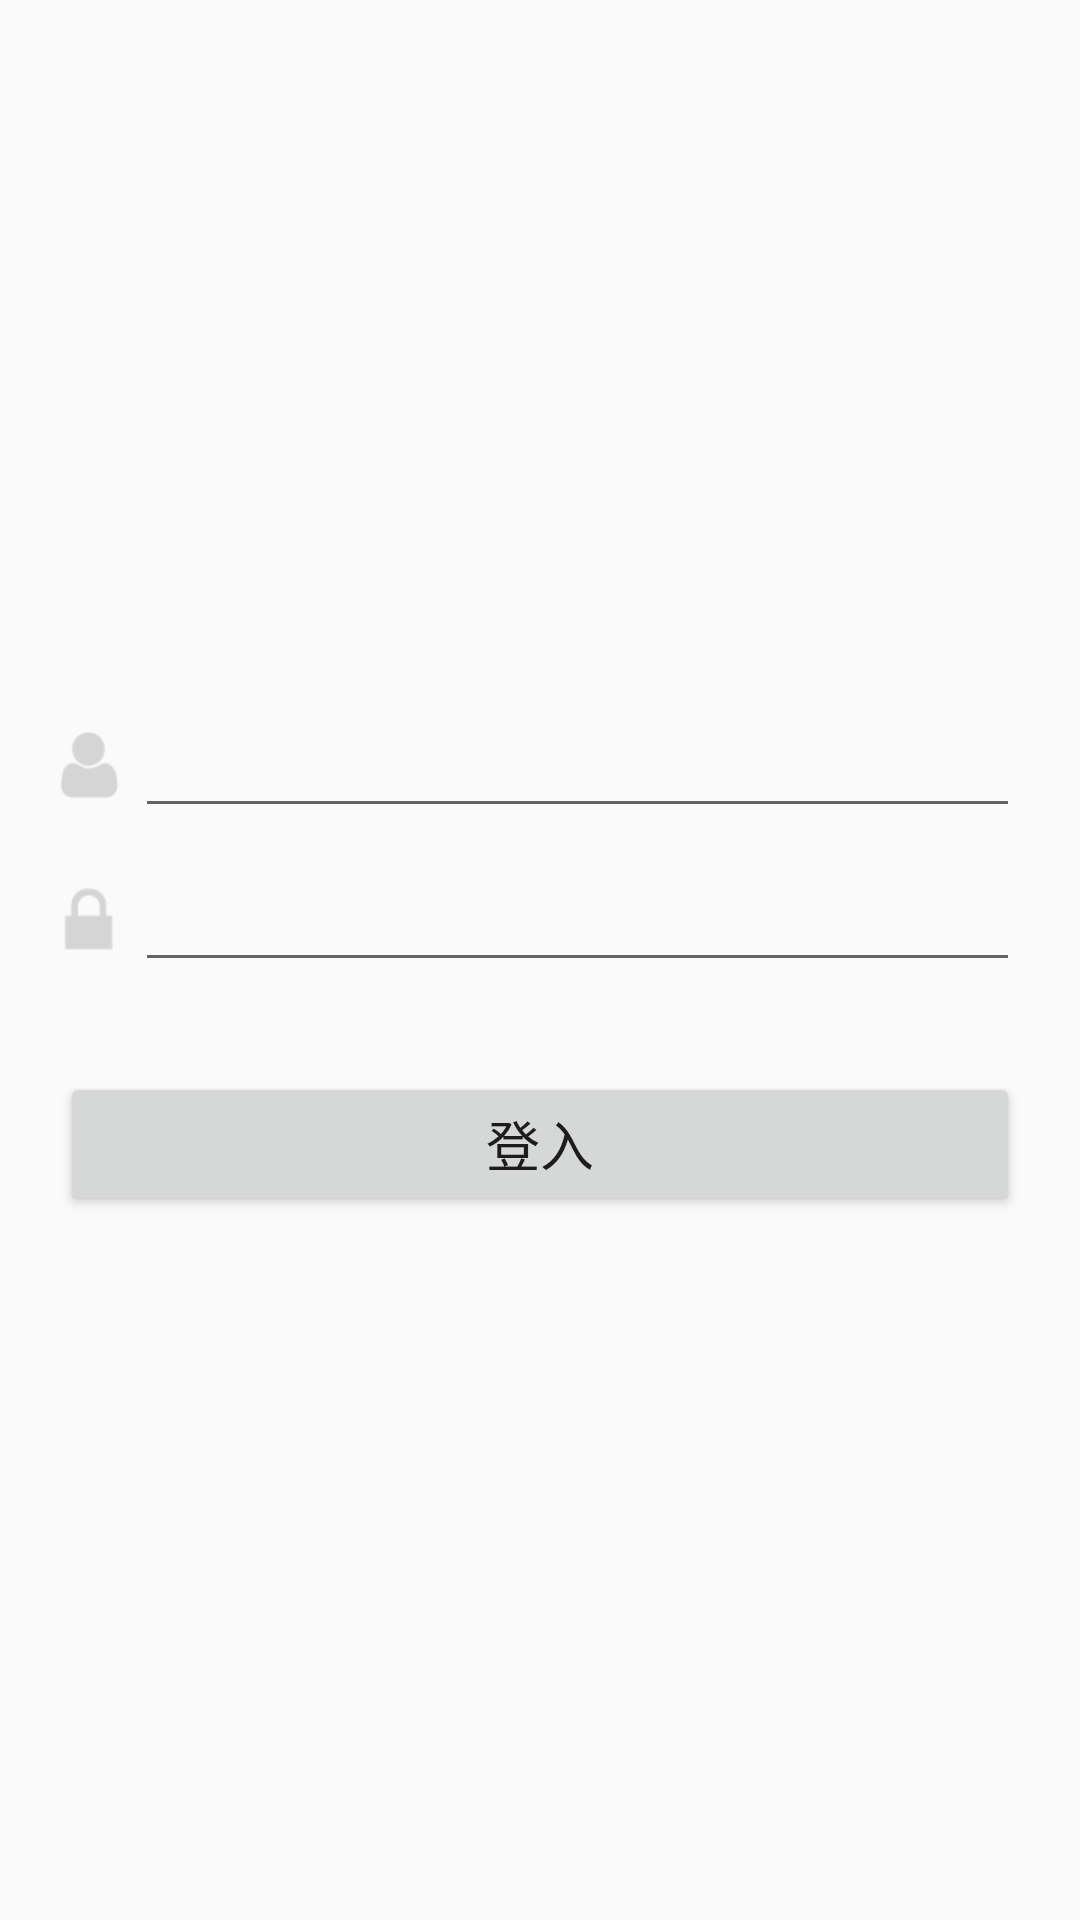

Point at icon controls on the screen. Image size 1080w x 1920h, points as point (x, y).
login pwd: point (89, 919)
login user: point (89, 765)
